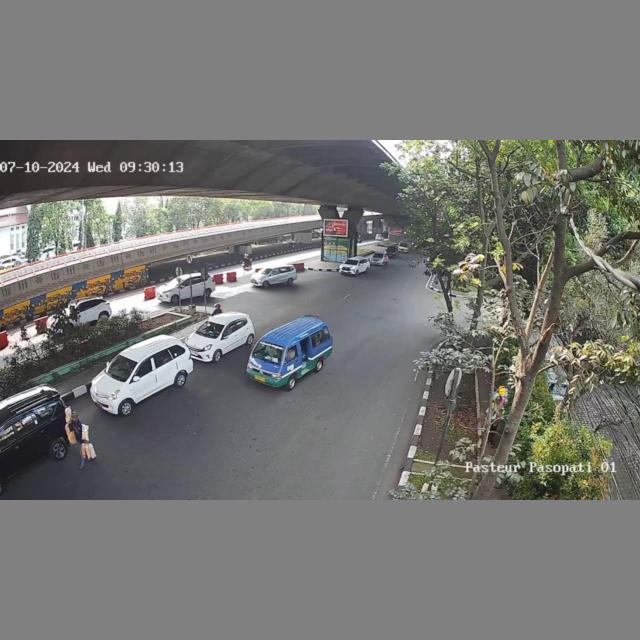windshield: (251, 340, 289, 364), (104, 357, 140, 377), (195, 321, 224, 336)
